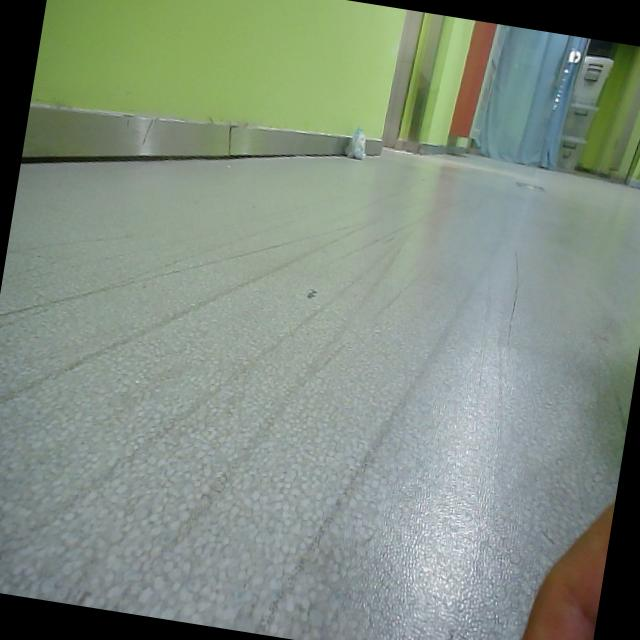xiaoba: (345, 125, 373, 165)
